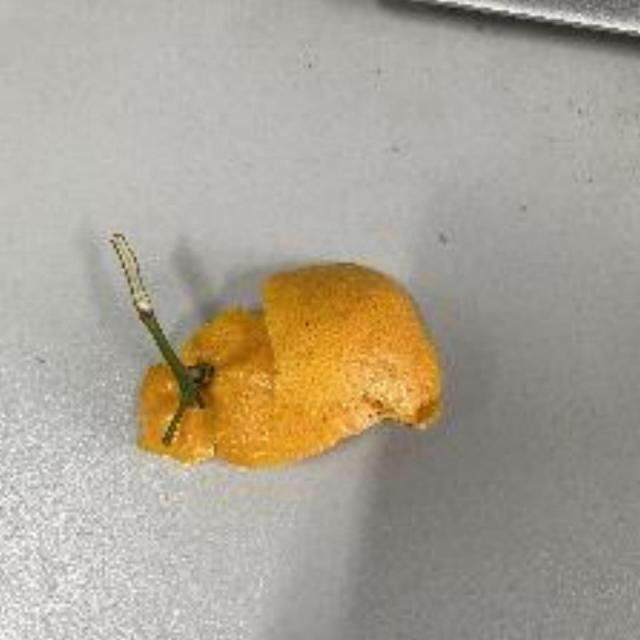orange peel: (120, 258, 454, 472)
